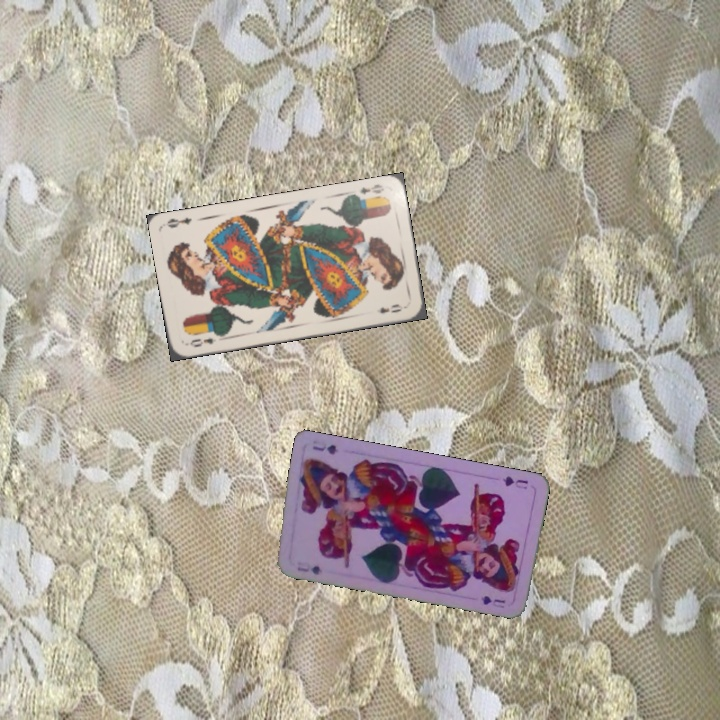EO: (186, 329, 223, 350), (357, 180, 387, 197)
GU: (293, 557, 325, 578), (498, 472, 531, 492)
